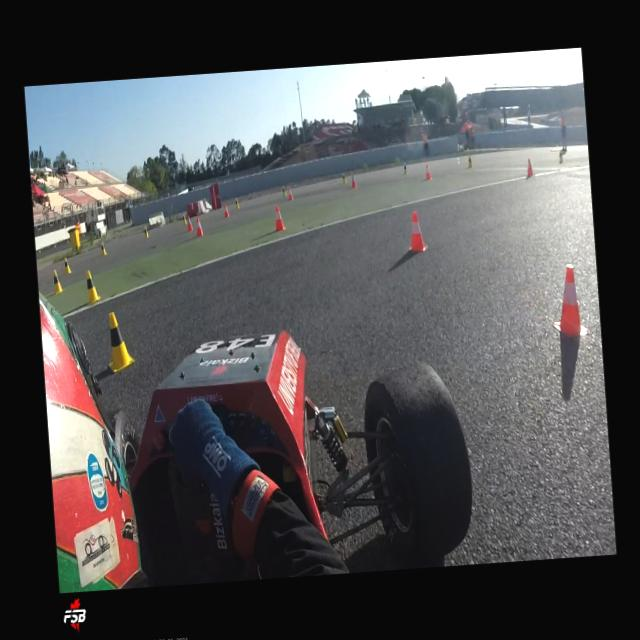orange_cone: (550, 266, 586, 338), (406, 210, 424, 252), (272, 205, 286, 231), (525, 158, 534, 177), (195, 216, 203, 236), (185, 214, 192, 232), (424, 164, 431, 180), (222, 204, 228, 218), (286, 187, 292, 200), (351, 174, 356, 188)
yellow_cone: (104, 311, 134, 373), (84, 270, 100, 306), (52, 268, 63, 294), (62, 256, 72, 274), (100, 242, 107, 256), (233, 197, 240, 209), (143, 226, 149, 238), (558, 152, 564, 164), (467, 154, 472, 168), (402, 163, 408, 174), (341, 172, 346, 184), (182, 213, 186, 225), (282, 185, 286, 196)
